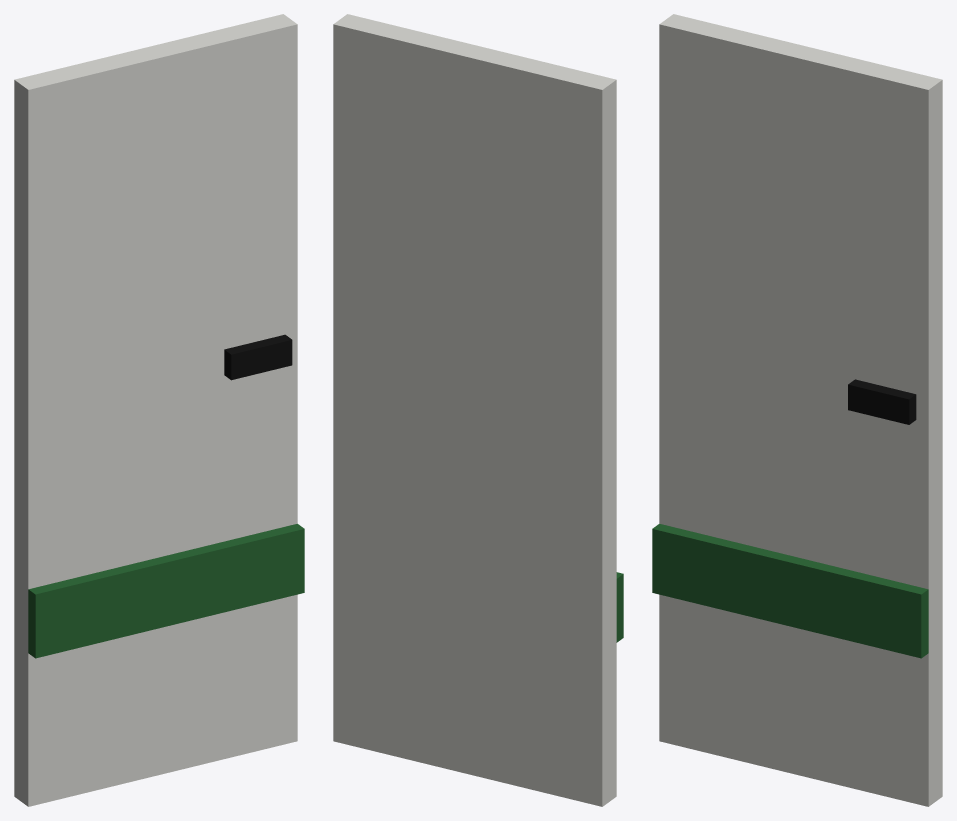
Rendered from animal_control_van_side_door.glb.
3 renders of one model, left to right at view 1: azimuth 30°, elevation 25°; view 2: azimuth 150°, elevation 25°; view 3: azimuth 330°, elevation 25°, orthographic.
Parts seen in each view (by area): view 1: body:compound; view 2: body:compound; view 3: body:compound.
Boxes of the visible parts, x1,y1,x2,y2 form: body:compound: [14, 14, 304, 806]; body:compound: [333, 14, 623, 806]; body:compound: [652, 14, 942, 806].
Size of the model in its own units: 0.6875 by 1.75 by 0.0938.
